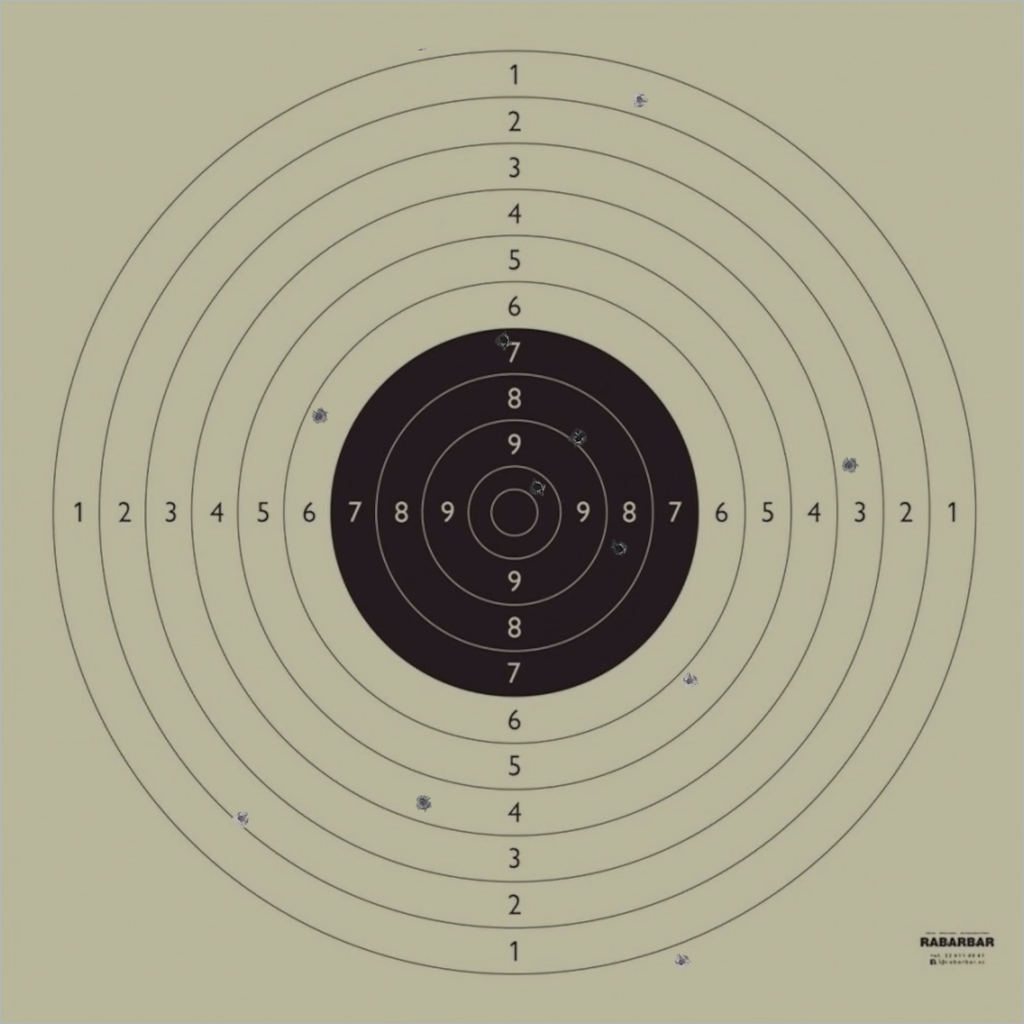0 punktow: (673, 952, 691, 971)
1 punkt: (631, 90, 649, 109)
10 punktow: (528, 478, 547, 496)
2 punkty: (232, 809, 251, 828)
3 punkty: (840, 456, 858, 474)
4 punkty: (414, 793, 433, 812)
5 punktow: (680, 672, 699, 690)
6 punktow: (310, 407, 328, 426)
7 punktow: (495, 331, 513, 350)
8 punktow: (610, 539, 628, 558)
9 punktow: (569, 429, 587, 448)
